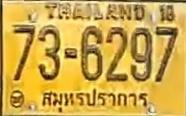2: (105, 27, 127, 81)
3: (37, 24, 60, 80)
6: (80, 25, 102, 80)
7: (12, 24, 35, 80), (154, 26, 177, 81)
9: (130, 27, 152, 81)
SPK: (36, 85, 152, 113)
